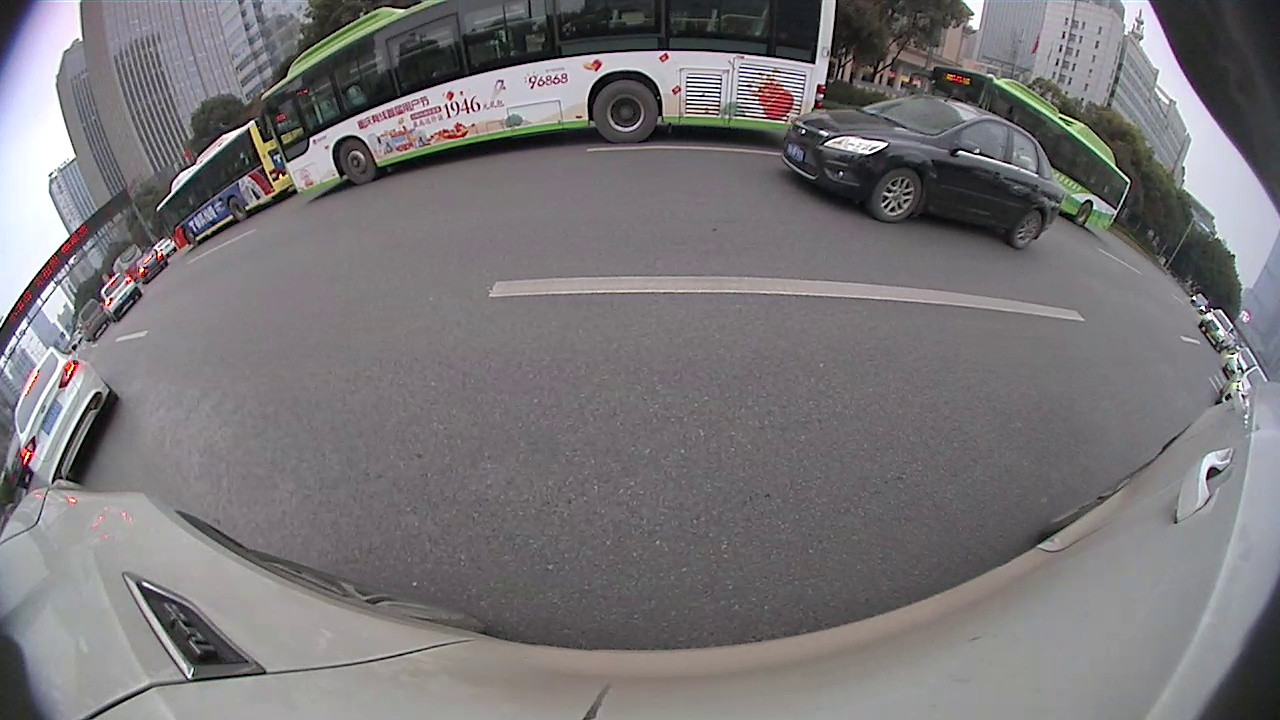bus: (254, 1, 838, 206), (903, 61, 1137, 240), (150, 111, 296, 260)
car: (781, 93, 1067, 253), (11, 342, 120, 487)
front: (869, 165, 924, 225), (336, 138, 378, 186)
rear: (590, 78, 660, 146), (1010, 205, 1043, 253), (1073, 198, 1093, 229), (227, 195, 248, 224)
